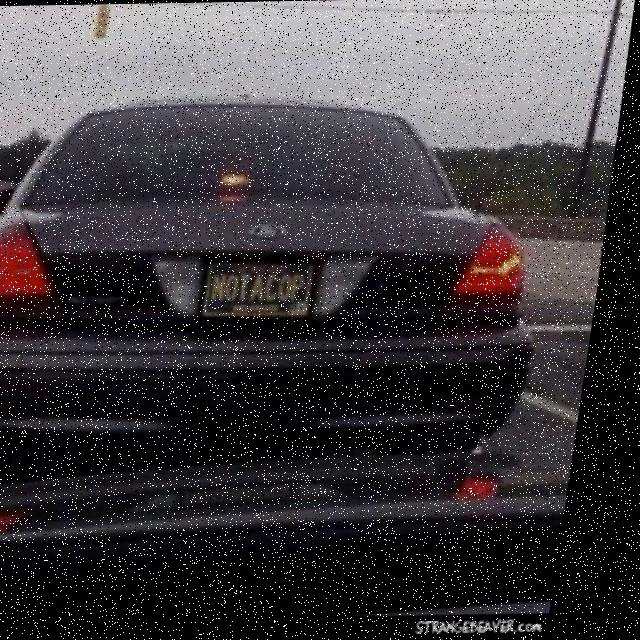license_plate: (210, 257, 324, 318)
